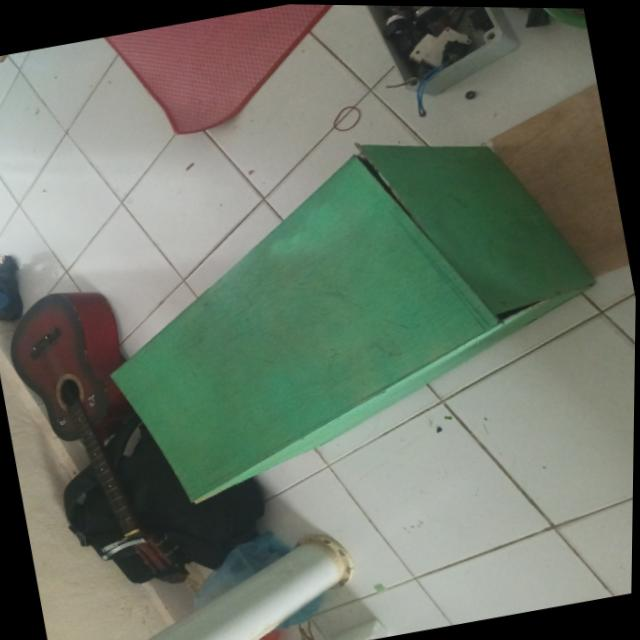green_box: (37, 94, 639, 536)
